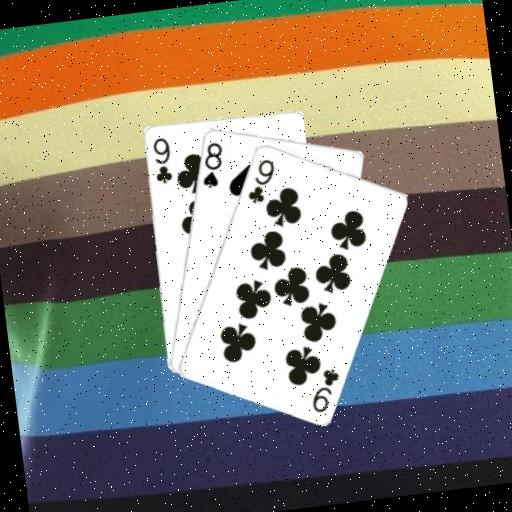8S: (195, 138, 228, 191)
9C: (240, 155, 281, 207), (305, 364, 346, 415), (148, 134, 175, 187)
